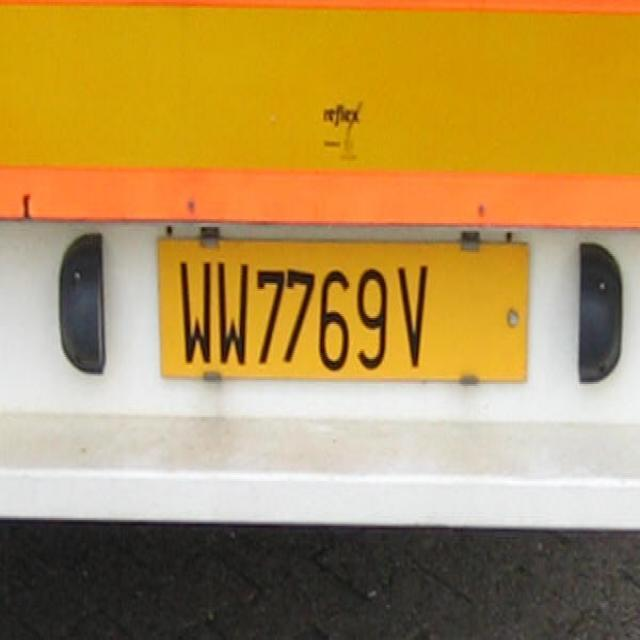License_Plate: (156, 239, 534, 382)
